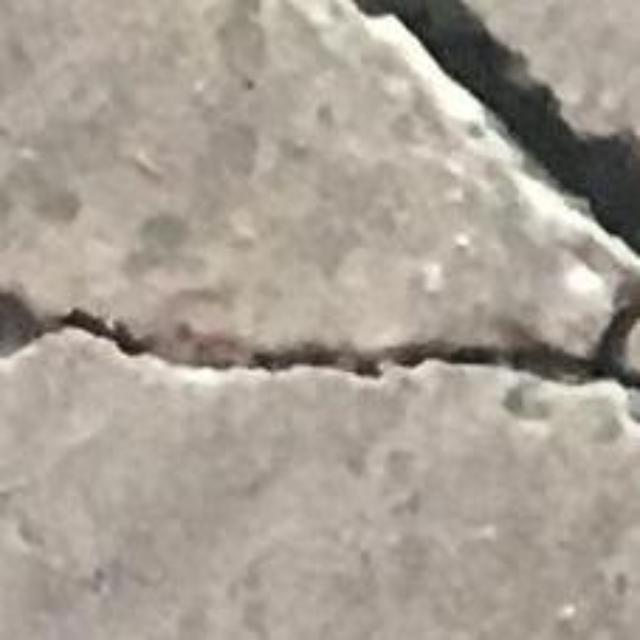crack: (195, 294, 639, 386)
